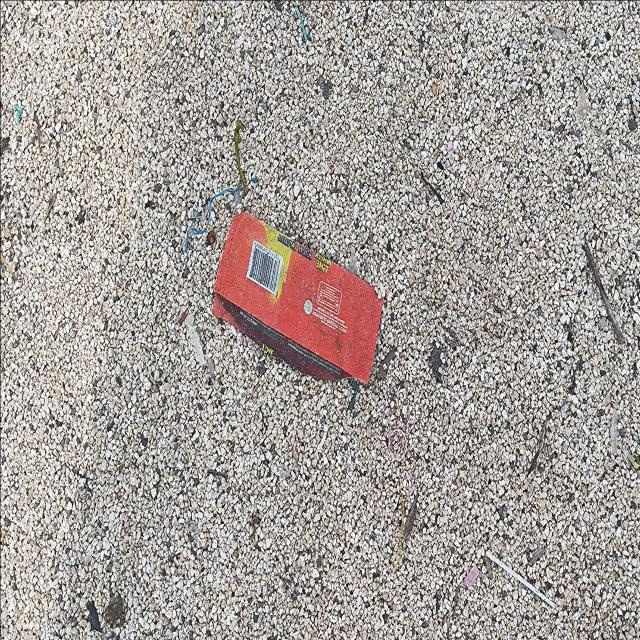plastic_waste: (211, 210, 386, 387), (486, 549, 557, 611)
